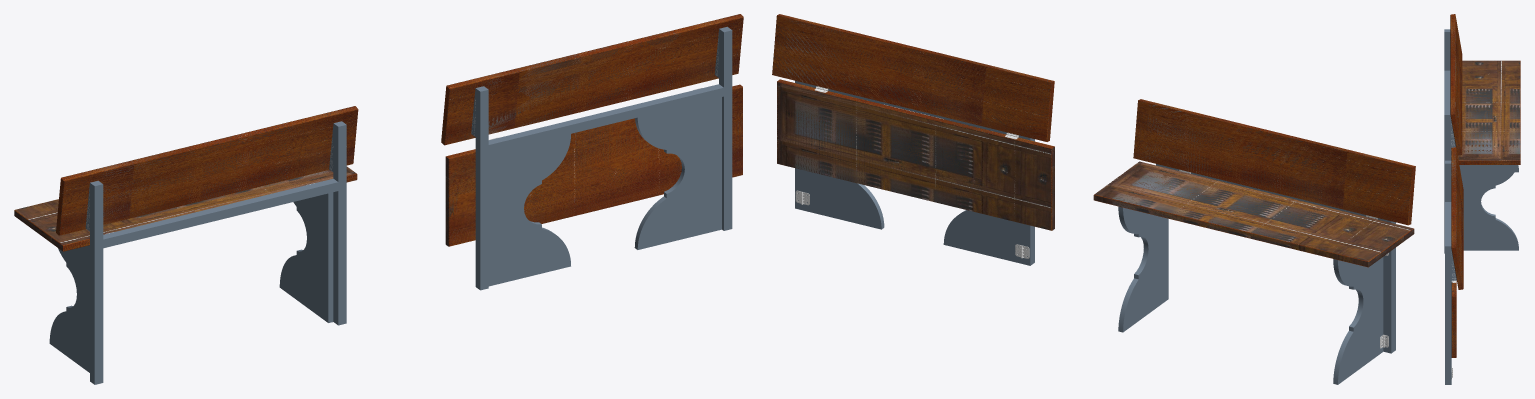
The picture shows the model from 3 angles, left to right: view 1: azimuth 30°, elevation 25°; view 2: azimuth 150°, elevation 25°; view 3: azimuth 270°, elevation 25°; orthographic projection. The views are drawn at different scales.
Visible parts, largest first — view 1: mesh10_mesh10-geometry, mesh29_mesh29-geometry, mesh7_mesh7-geometry, mesh3_mesh3-geometry, mesh5_mesh5-geometry, mesh23_mesh23-geometry, mesh34_mesh34-geometry, mesh8_mesh8-geometry, mesh27_mesh27-geometry, mesh25_mesh25-geometry, mesh13_mesh13-geometry, mesh32_mesh32-geometry (+2 smaller); view 2: mesh7_mesh7-geometry, mesh10_mesh10-geometry, mesh29_mesh29-geometry, mesh34_mesh34-geometry, mesh25_mesh25-geometry, mesh23_mesh23-geometry, mesh3_mesh3-geometry, mesh5_mesh5-geometry, mesh32_mesh32-geometry, mesh8_mesh8-geometry; view 3: mesh34_mesh34-geometry, mesh23_mesh23-geometry, mesh10_mesh10-geometry, mesh29_mesh29-geometry, mesh11_mesh11-geometry, mesh7_mesh7-geometry, mesh30_mesh30-geometry, mesh8_mesh8-geometry, mesh32_mesh32-geometry, mesh13_mesh13-geometry, mesh27_mesh27-geometry, mesh21_mesh21-geometry (+1 smaller).
Part boxes in pixels (box(x1,y1,x2,y2)): mesh10_mesh10-geometry: box(441, 14, 743, 145); mesh29_mesh29-geometry: box(56, 106, 358, 235); mesh7_mesh7-geometry: box(445, 84, 742, 246); mesh3_mesh3-geometry: box(634, 97, 721, 249); mesh5_mesh5-geometry: box(488, 134, 570, 286); mesh23_mesh23-geometry: box(279, 192, 333, 322); mesh34_mesh34-geometry: box(14, 166, 357, 251); mesh8_mesh8-geometry: box(488, 84, 723, 153); mesh27_mesh27-geometry: box(103, 178, 338, 248); mesh25_mesh25-geometry: box(49, 245, 89, 372); mesh13_mesh13-geometry: box(475, 86, 488, 290); mesh32_mesh32-geometry: box(90, 180, 103, 384); mesh7_mesh7-geometry: box(777, 79, 1054, 230); mesh10_mesh10-geometry: box(772, 14, 1054, 141); mesh29_mesh29-geometry: box(1133, 99, 1415, 225); mesh34_mesh34-geometry: box(1093, 161, 1414, 267); mesh25_mesh25-geometry: box(1333, 257, 1383, 384); mesh23_mesh23-geometry: box(1118, 206, 1168, 332); mesh3_mesh3-geometry: box(803, 87, 884, 229); mesh5_mesh5-geometry: box(943, 120, 1022, 263); mesh32_mesh32-geometry: box(1383, 219, 1395, 353); mesh8_mesh8-geometry: box(803, 82, 1022, 137); mesh34_mesh34-geometry: box(1458, 60, 1520, 164); mesh23_mesh23-geometry: box(1451, 155, 1518, 250); mesh10_mesh10-geometry: box(1451, 147, 1463, 289); mesh29_mesh29-geometry: box(1450, 14, 1462, 155); mesh11_mesh11-geometry: box(1445, 243, 1451, 384); mesh7_mesh7-geometry: box(1451, 281, 1456, 357); mesh30_mesh30-geometry: box(1444, 112, 1450, 253); mesh8_mesh8-geometry: box(1445, 202, 1451, 243); mesh32_mesh32-geometry: box(1444, 29, 1450, 70); mesh13_mesh13-geometry: box(1445, 160, 1451, 201); mesh27_mesh27-geometry: box(1444, 70, 1450, 111); mesh21_mesh21-geometry: box(1451, 251, 1456, 280).
Size of the model in its own units: 0.9515 by 0.2776 by 0.1327.
